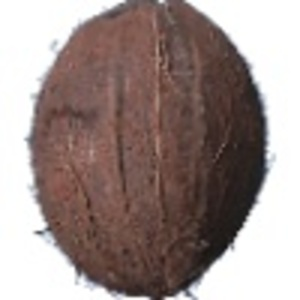coco: (26, 1, 275, 300)
